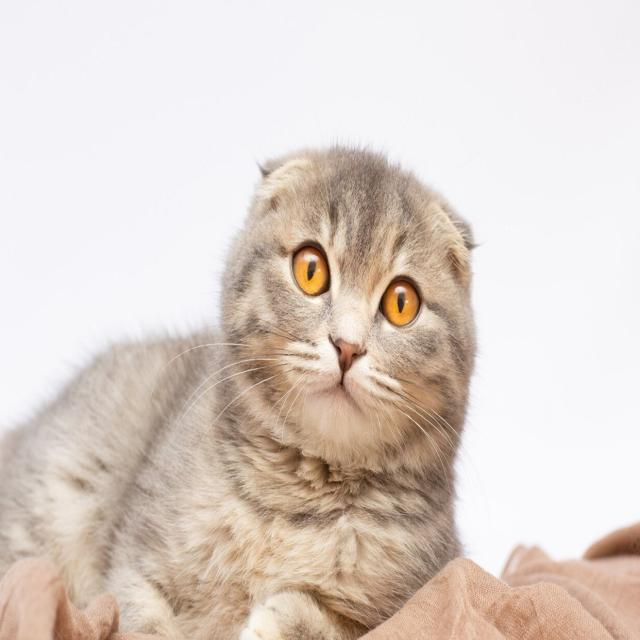Scottish Fold: (0, 137, 484, 640)
